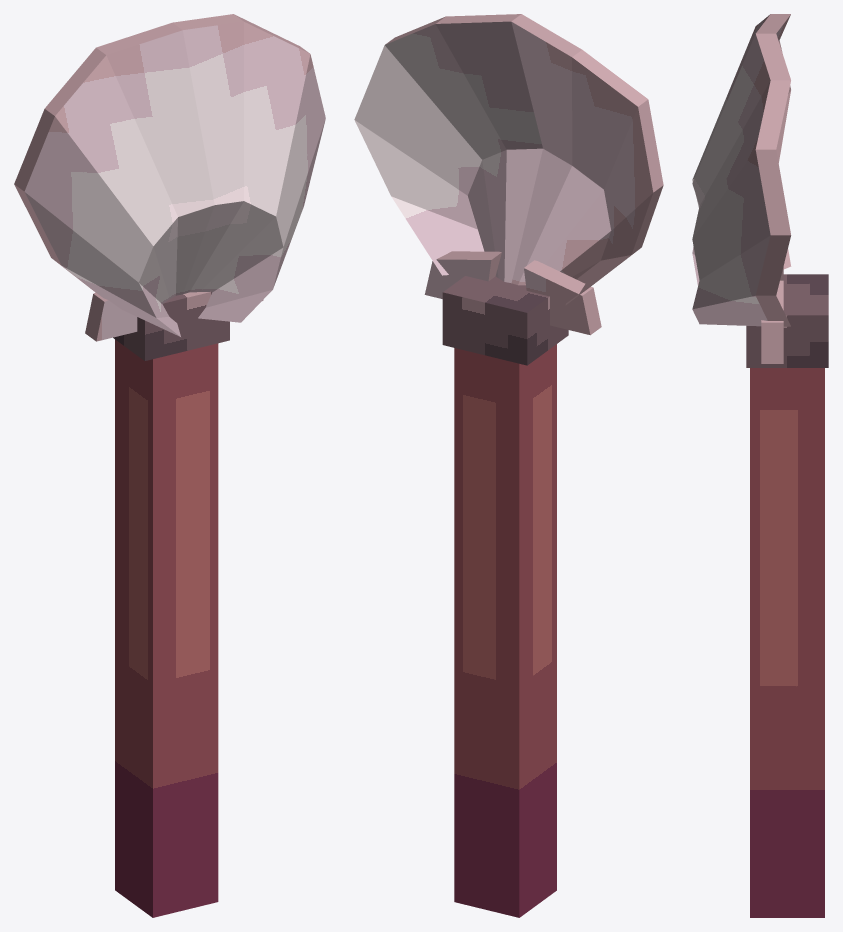
The model's file is seashell_shovel.obj.
3 renders of one model, left to right at view 1: azimuth 30°, elevation 25°; view 2: azimuth 150°, elevation 25°; view 3: azimuth 270°, elevation 25°, orthographic.
Visible parts, largest first — view 1: fan_valve_with_radial_folds, shaft, continuous_thin_shell_margin, shell_hinge_saddle, straight_hinge_with_auricles; view 2: fan_valve_with_radial_folds, shaft, shell_hinge_saddle, straight_hinge_with_auricles, continuous_thin_shell_margin; view 3: shaft, fan_valve_with_radial_folds, continuous_thin_shell_margin, shell_hinge_saddle, straight_hinge_with_auricles.
Part boxes in pixels (box(x1,y1,x2,y2)): fan_valve_with_radial_folds: box(24, 21, 325, 336); shaft: box(115, 339, 218, 917); continuous_thin_shell_margin: box(14, 14, 309, 295); shell_hinge_saddle: box(113, 291, 229, 360); straight_hinge_with_auricles: box(85, 292, 263, 341); fan_valve_with_radial_folds: box(354, 21, 653, 305); shaft: box(454, 344, 556, 917); shell_hinge_saddle: box(442, 276, 568, 365); straight_hinge_with_auricles: box(424, 251, 601, 335); continuous_thin_shell_margin: box(385, 14, 663, 301); shaft: box(750, 368, 824, 917); fan_valve_with_radial_folds: box(692, 14, 791, 326); continuous_thin_shell_margin: box(755, 14, 791, 326); shell_hinge_saddle: box(746, 274, 828, 367); straight_hinge_with_auricles: box(761, 267, 783, 363).
Size of the model in its own units: 0.575 by 1.6 by 0.2276.
